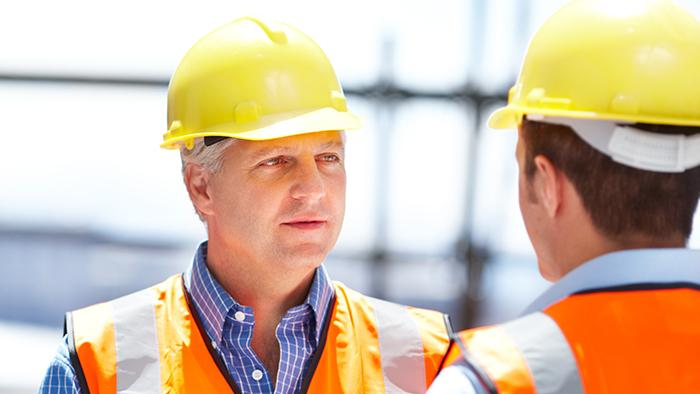helmet: (482, 1, 700, 133), (160, 7, 356, 139)
